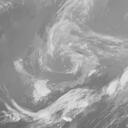cyclone: (39, 24, 101, 86)
